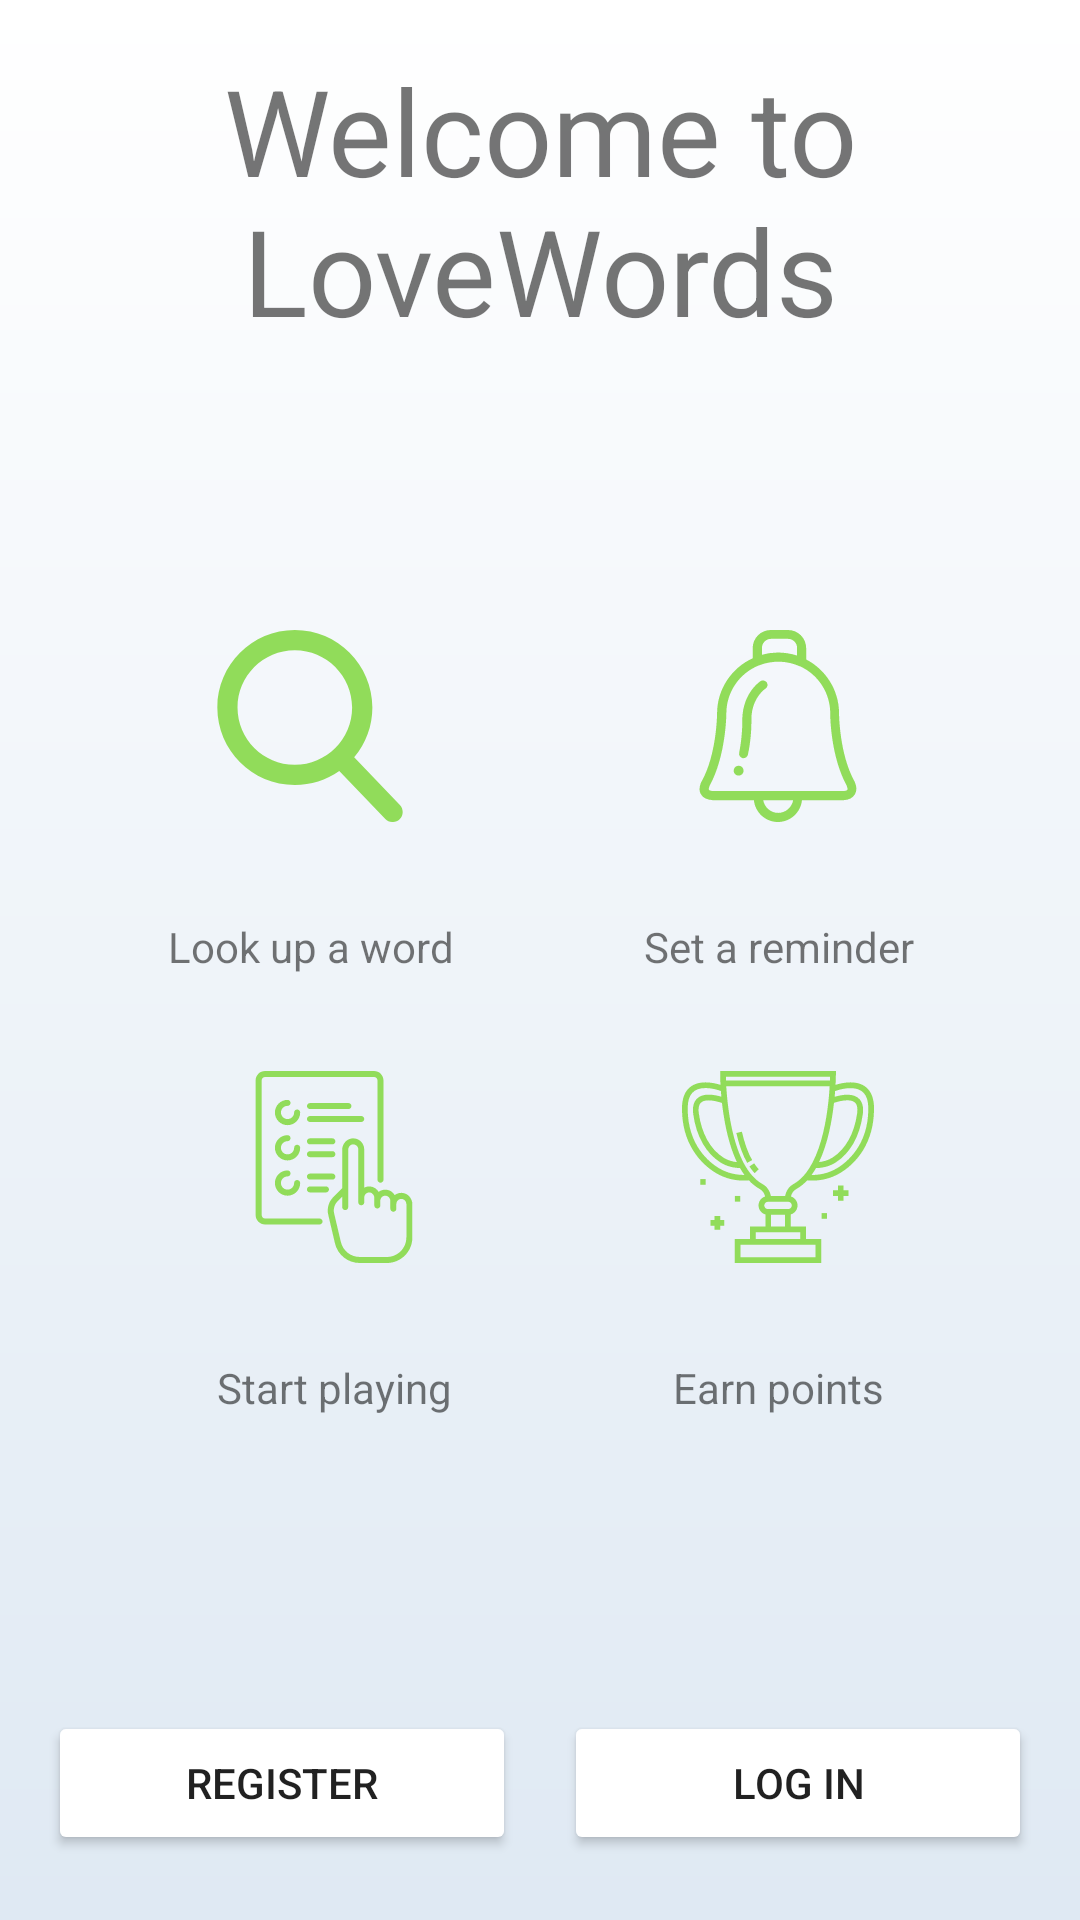

Locate icon controls on the screen. Image size 1080x1920, boxes as (x1, y1, x2, y2).
welcome alarm bell: (699, 630, 857, 822)
welcome choices: (255, 1071, 413, 1263)
welcome search: (217, 630, 403, 822)
welcome trophy: (682, 1071, 874, 1263)
